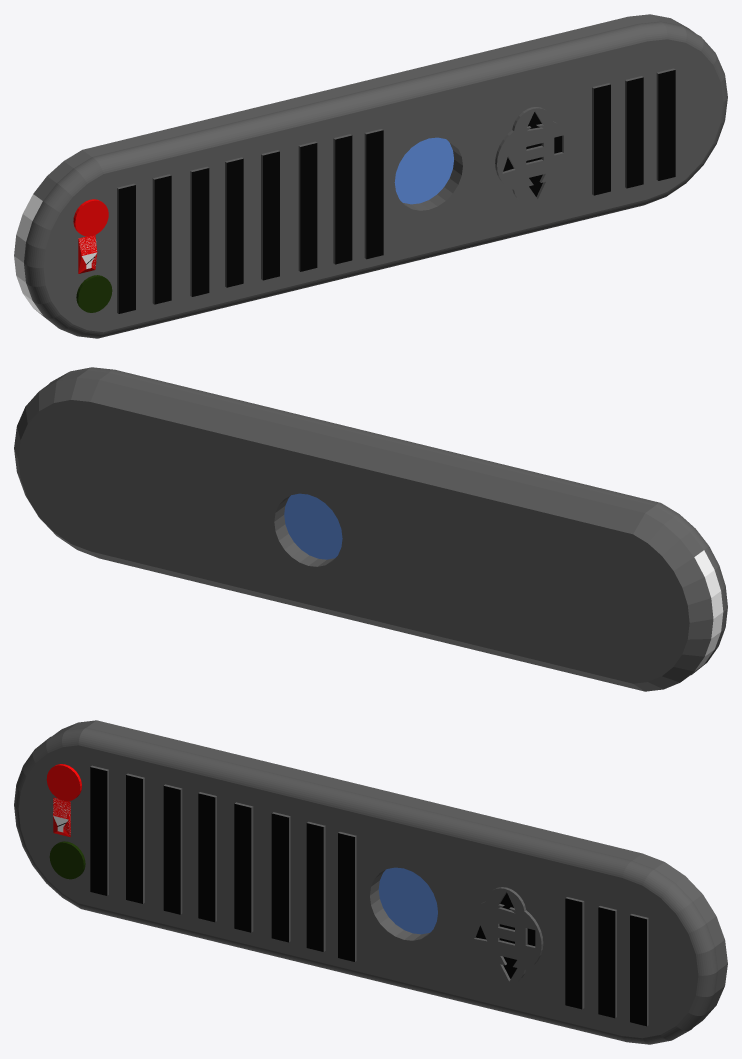
3 renders of one model, top to bottom at view 1: azimuth 30°, elevation 25°; view 2: azimuth 150°, elevation 25°; view 3: azimuth 330°, elevation 25°, orthographic.
Visible parts, largest first — view 1: remote; view 2: remote; view 3: remote.
Boxes of the visible parts, x1,y1,x2,y2 form: remote: (14,14,727,338); remote: (14,367,727,691); remote: (14,720,727,1044).
Bounding box in the file's own units: 10.26 × 2.51 × 0.7967.
